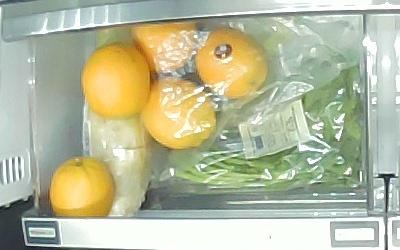orange: (81, 43, 151, 119), (50, 157, 115, 218)
orange_vinyl: (142, 77, 216, 150), (195, 27, 269, 99), (132, 20, 197, 73)
